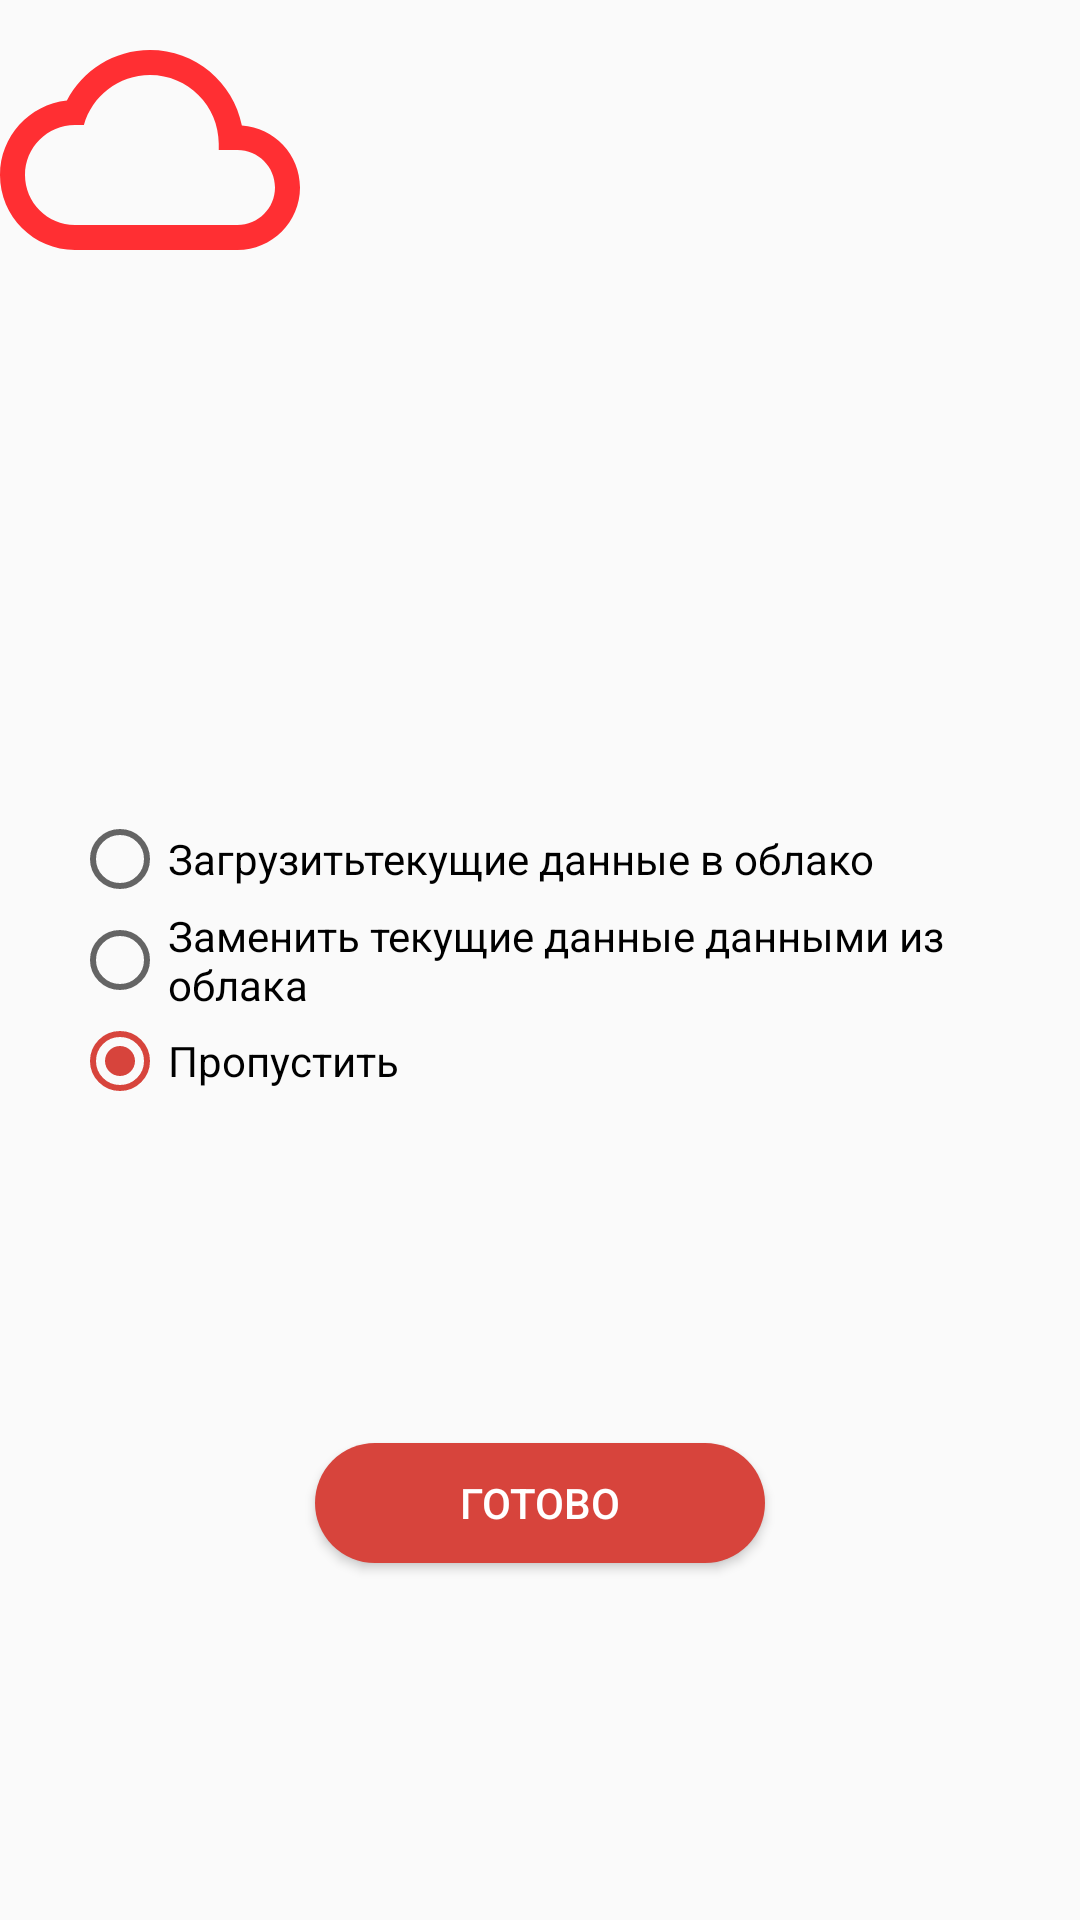

Screen size 1080 × 1920. Icon name, then its center in pixels as point (x, y):
cloud queue: point (150, 150)
